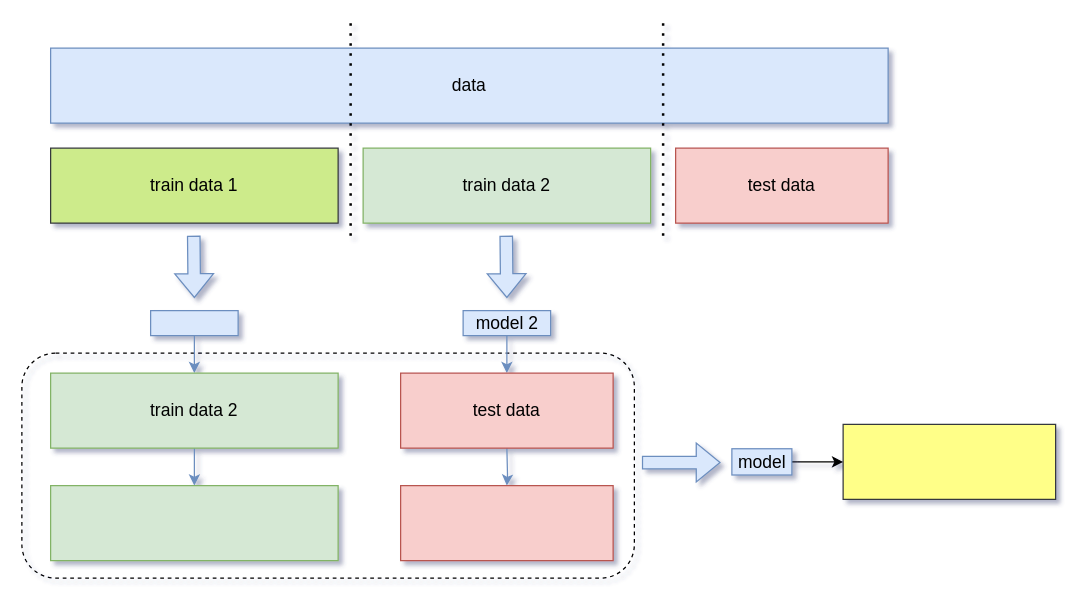
Some shapes in this 1085 by 608 pixel diagram are drawn without their labels. Here are the shapes that lost their labels. From the top down, the centre of each, then its label:
At pixel 193 322: "model 1".
At pixel 949 461: "forecast result".
At pixel 193 522: "prediction 1 (meta-feature of train data 2)".
At pixel 506 522: "prediction 2 (meta-feature of test data)".
